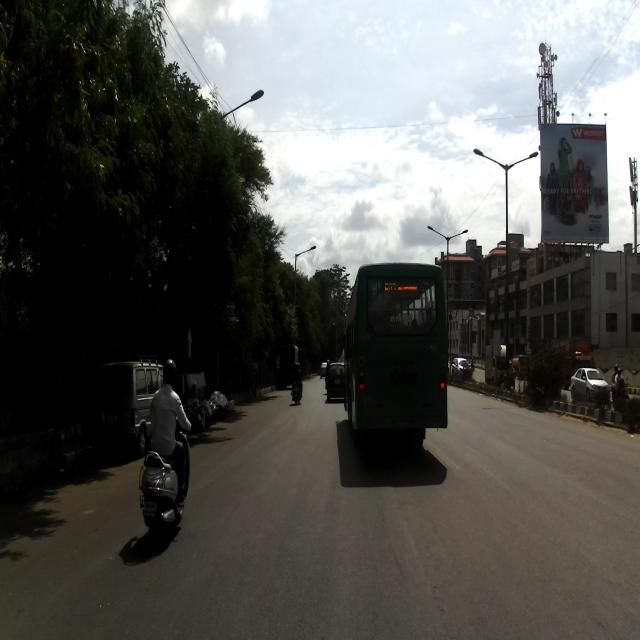Car_Maruti-Suzuki: (100, 357, 173, 460)
bus: (343, 260, 450, 459)
scooter: (136, 418, 193, 536)
